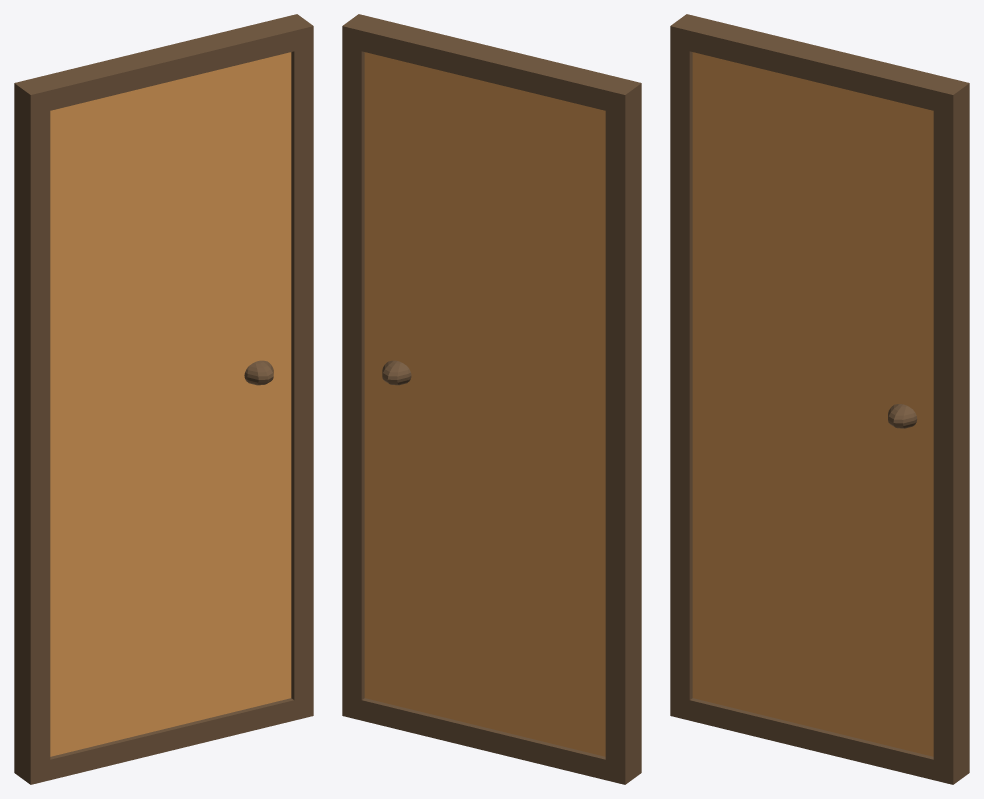
File: Door.fbx
3 views of the same model, side by side, from view 1: azimuth 30°, elevation 25°; view 2: azimuth 150°, elevation 25°; view 3: azimuth 330°, elevation 25° (orthographic).
Visible parts, largest first — view 1: Door; view 2: Door; view 3: Door.
Boxes of the visible parts, left/top/right/bottom form: Door: left=14, top=14, right=313, bottom=784; Door: left=342, top=14, right=641, bottom=784; Door: left=670, top=14, right=969, bottom=784.
Size of the model in its own units: 81.51 by 190 by 15.4.
